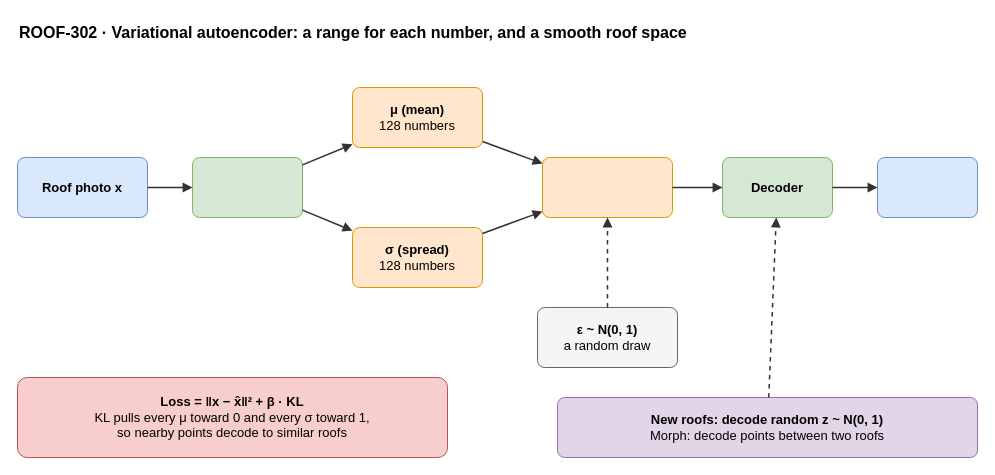
Some shapes in this 995 by 475 pixel diagram are drawn without their labels. Here are the shapes that lost their labels. From the top down, the centre of each, then its label:
At pixel 247 187: "Encoder".
At pixel 607 187: "z = μ + σ · ε".
At pixel 927 187: "Copy x̂".
